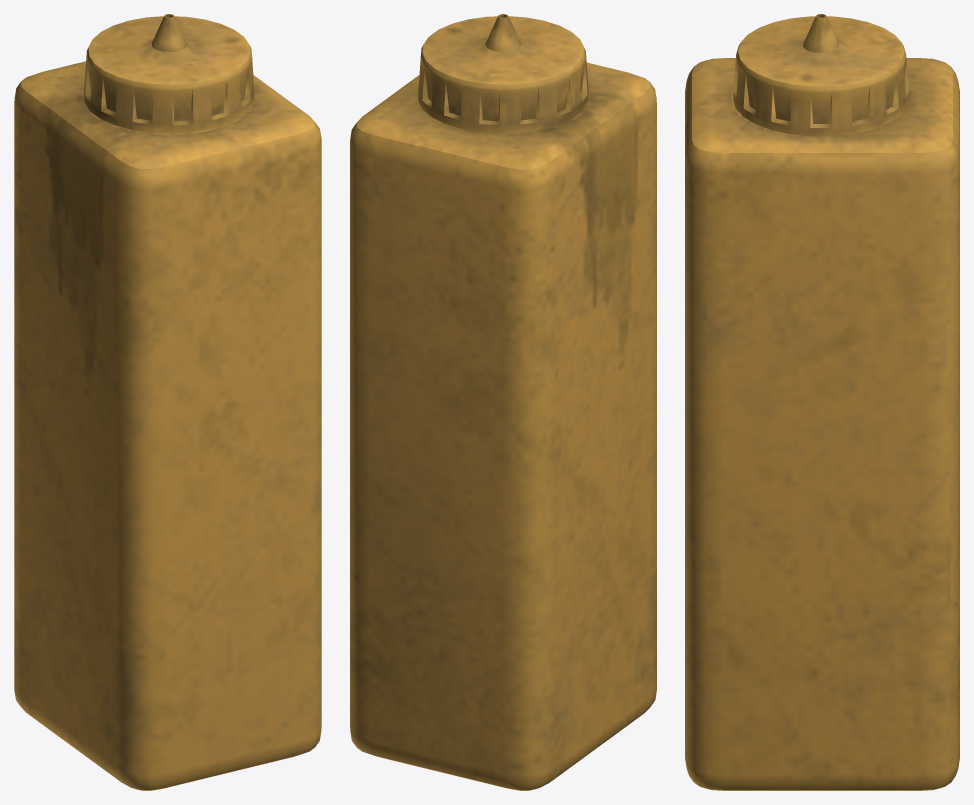
The model's file is SM_Mustard_01.fbx.
The picture shows the model from 3 angles, left to right: view 1: azimuth 30°, elevation 25°; view 2: azimuth 150°, elevation 25°; view 3: azimuth 270°, elevation 25°; orthographic projection. The views are drawn at different scales.
Visible parts, largest first — view 1: SM_Mustard_01_LOD0; view 2: SM_Mustard_01_LOD0; view 3: SM_Mustard_01_LOD0.
Part boxes in pixels (box(x1,y1,x2,y2)): SM_Mustard_01_LOD0: box(14, 14, 321, 790); SM_Mustard_01_LOD0: box(350, 14, 656, 790); SM_Mustard_01_LOD0: box(685, 14, 959, 790).
Size of the model in its own units: 6 by 7 by 20.6.
1 material, 1 textured.
